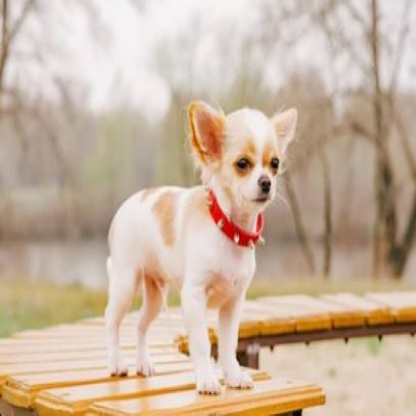chihuahua: (99, 96, 302, 398)
